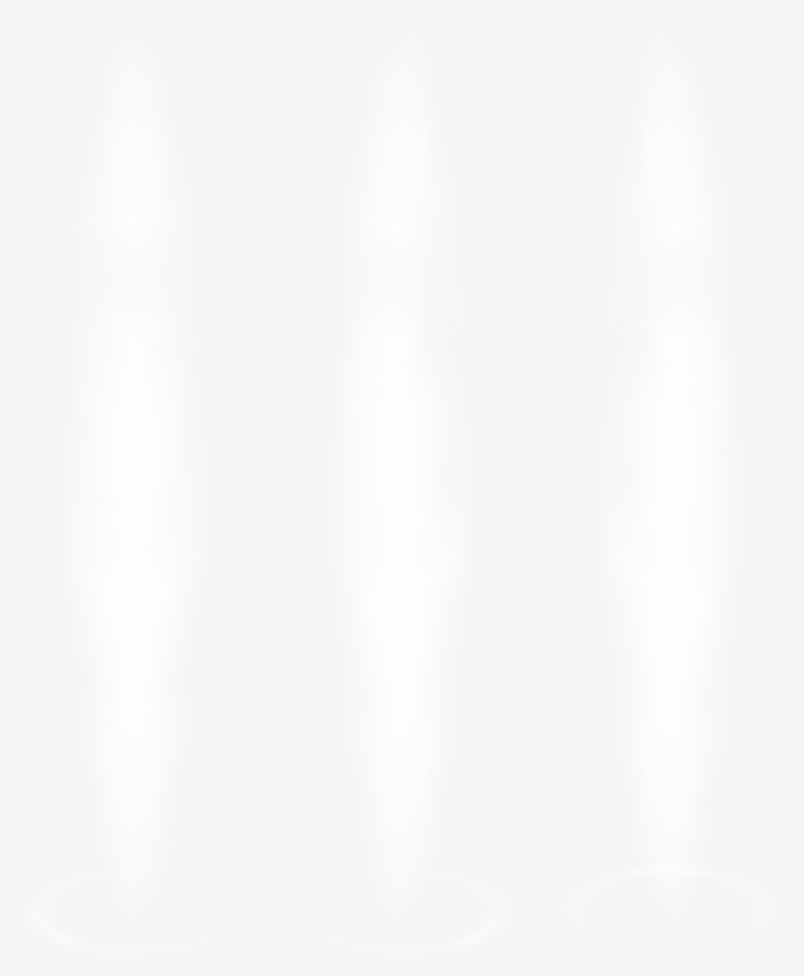
File: elowen_step.glb
The picture shows the model from 3 angles, left to right: view 1: azimuth 30°, elevation 25°; view 2: azimuth 150°, elevation 25°; view 3: azimuth 270°, elevation 25°; orthographic projection.
Visible parts, largest first — view 1: Elowen_StepTrail, Elowen_StepRing; view 2: Elowen_StepTrail, Elowen_StepRing; view 3: Elowen_StepTrail, Elowen_StepRing.
Boxes of the visible parts, x1,y1,x2,y2 form: Elowen_StepTrail: [63, 46, 204, 910]; Elowen_StepRing: [27, 875, 158, 954]; Elowen_StepTrail: [331, 39, 471, 914]; Elowen_StepRing: [350, 883, 509, 954]; Elowen_StepTrail: [599, 39, 740, 913]; Elowen_StepRing: [579, 867, 767, 912].
Size of what is drawn, in the model's own units: 0.2394 by 1 by 0.2397.
2 materials, 2 textured.
